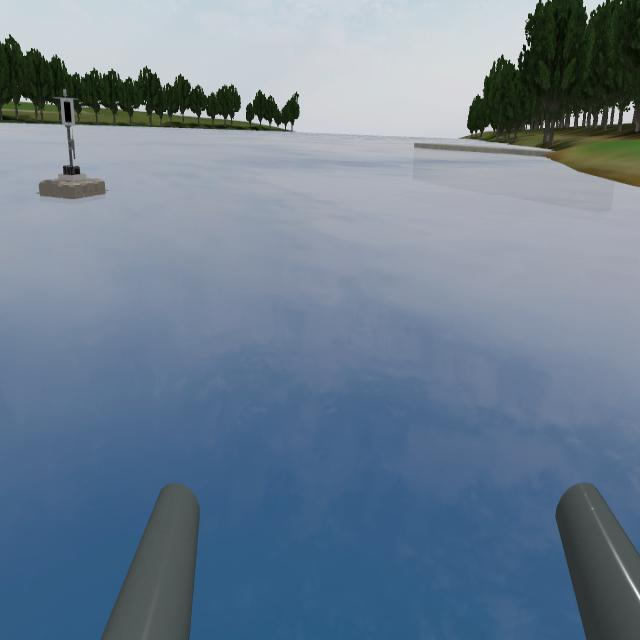red_pole: (57, 90, 77, 129)
